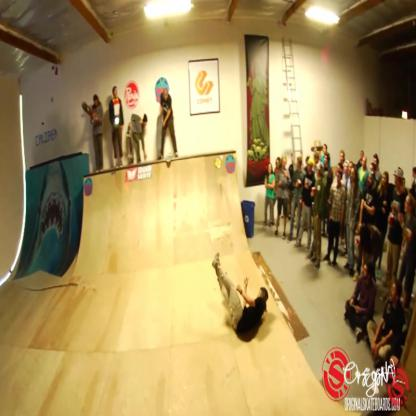Fall_Down: (210, 250, 270, 341)
